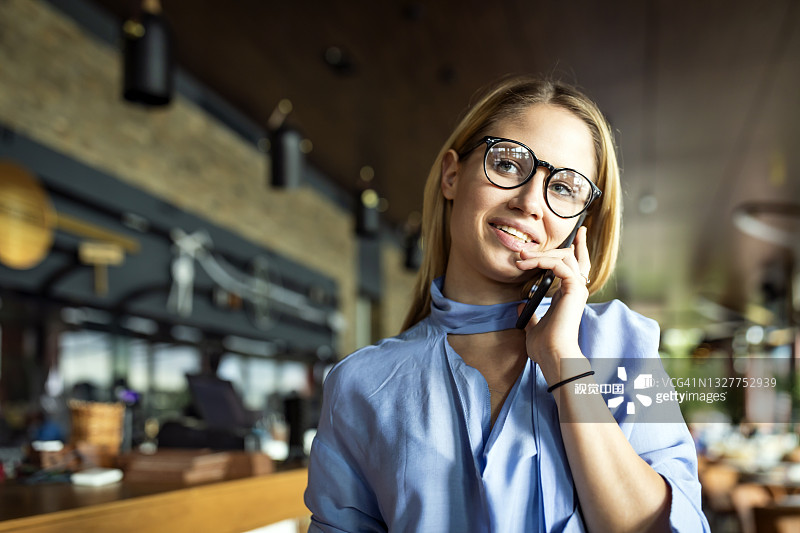calling: (513, 215, 614, 364)
